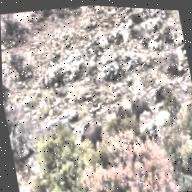boar: (72, 116, 110, 153), (126, 88, 155, 129), (150, 82, 179, 112), (110, 101, 136, 124)
